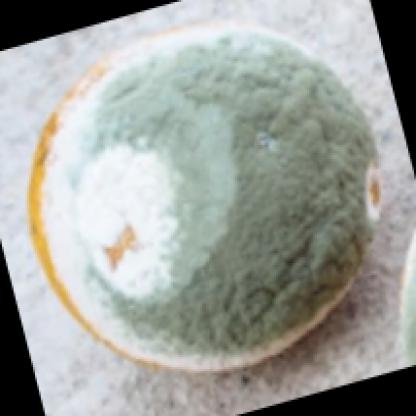rotten_orange: (18, 24, 384, 374)
